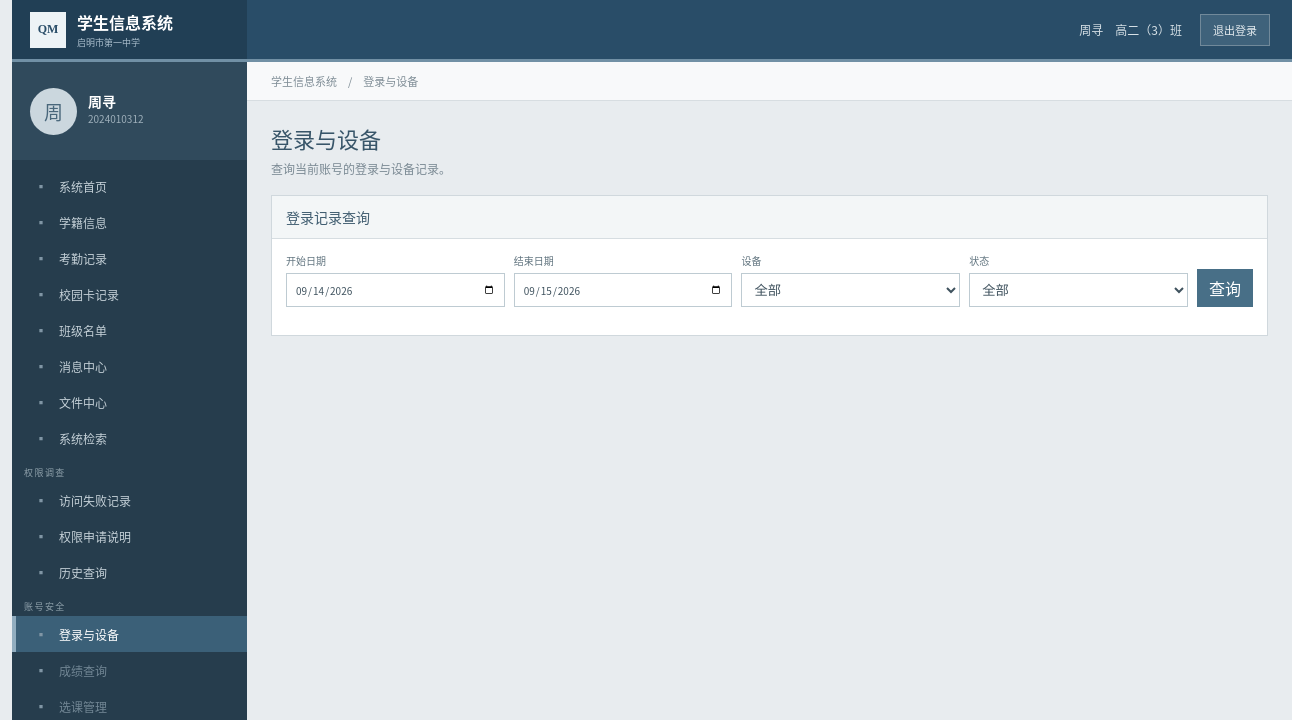
第五章页面与权限 › 错误日期范围保留上次合法结果且不会发现线索
Click the button "查询" at (1225, 288), box [1197,269,1253,307]
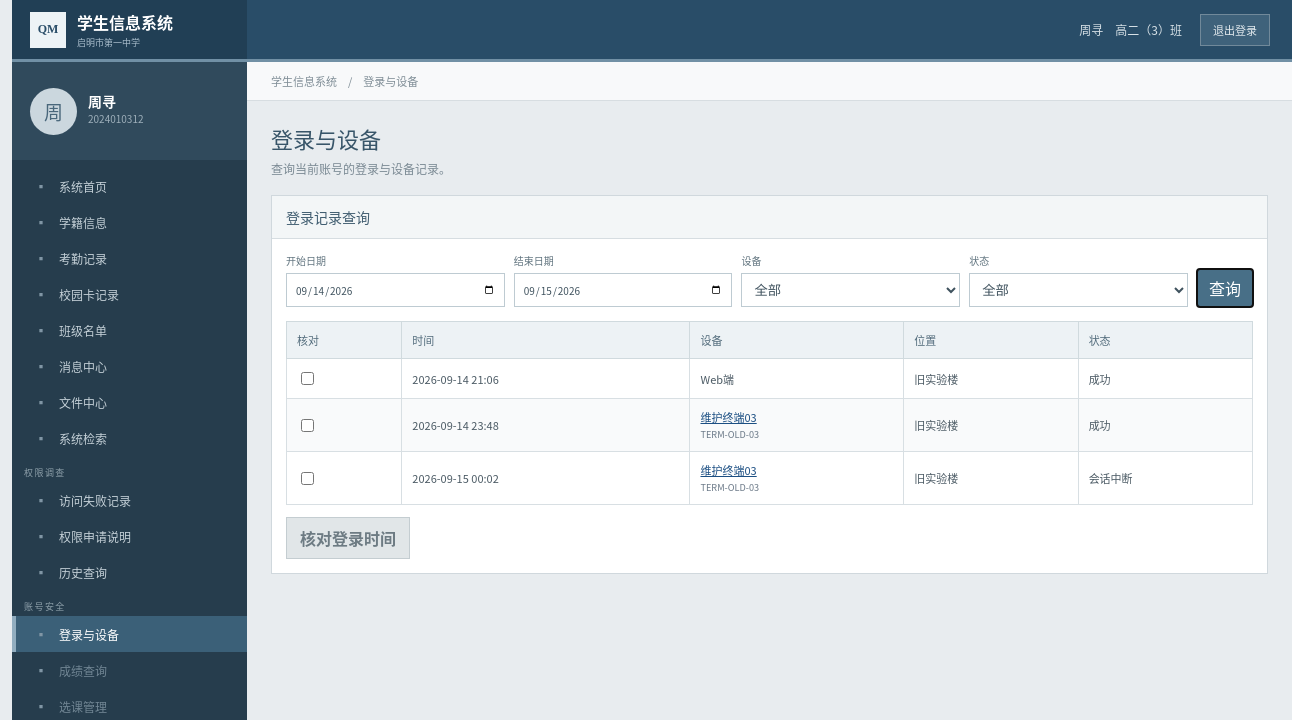
Now the text "2026-09-14 23:48" is shown, box [402,398,690,452]
Type "2026-09-16" into the date field named "登录开始日期" at (395, 290), box [286,273,505,307]
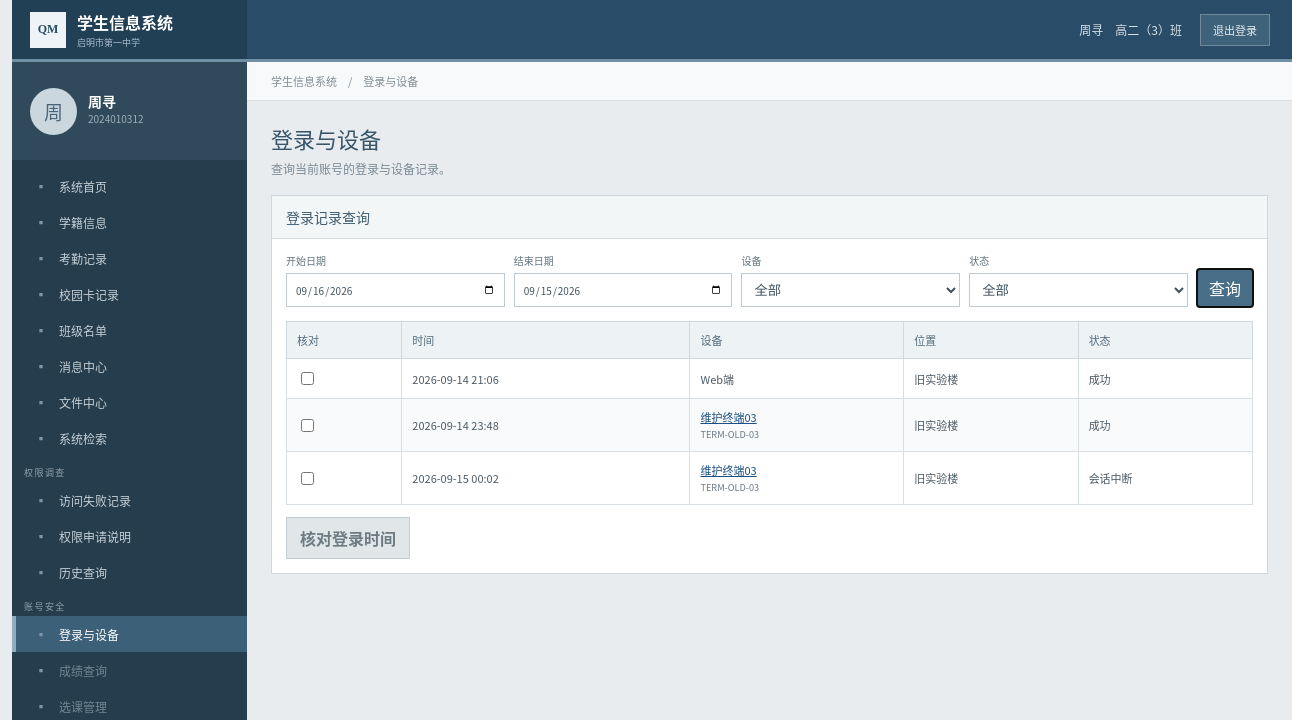
Click the button "查询" at (1225, 288), box [1197,269,1253,307]
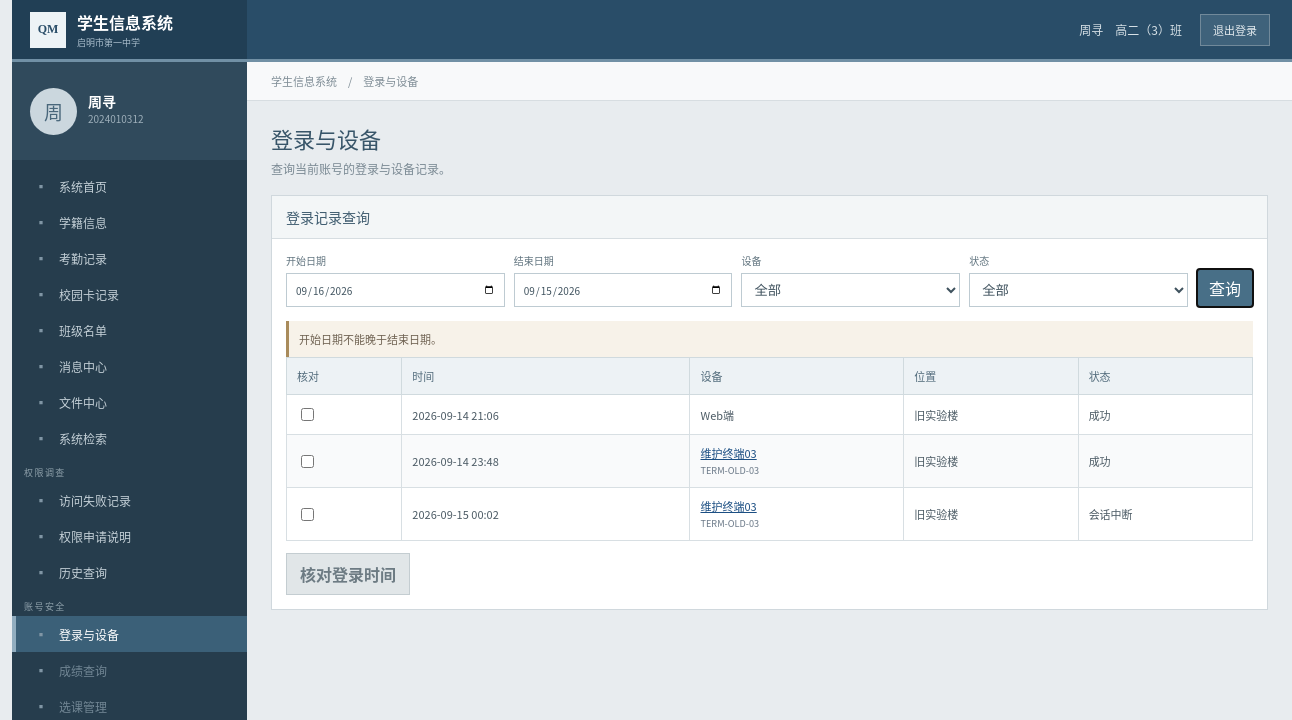
Now the text "2026-09-14 23:48" is shown, box [402,434,690,488]
Now the message shows "开始日期不能晚于结束日期", box [299,331,442,347]
